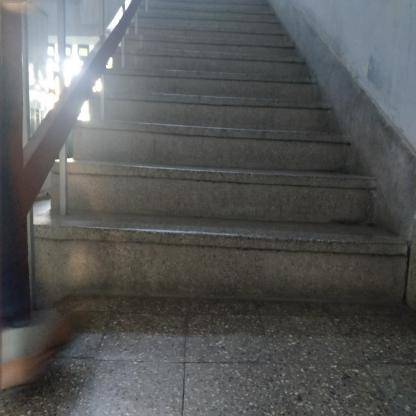stairs: (119, 70, 346, 310)
